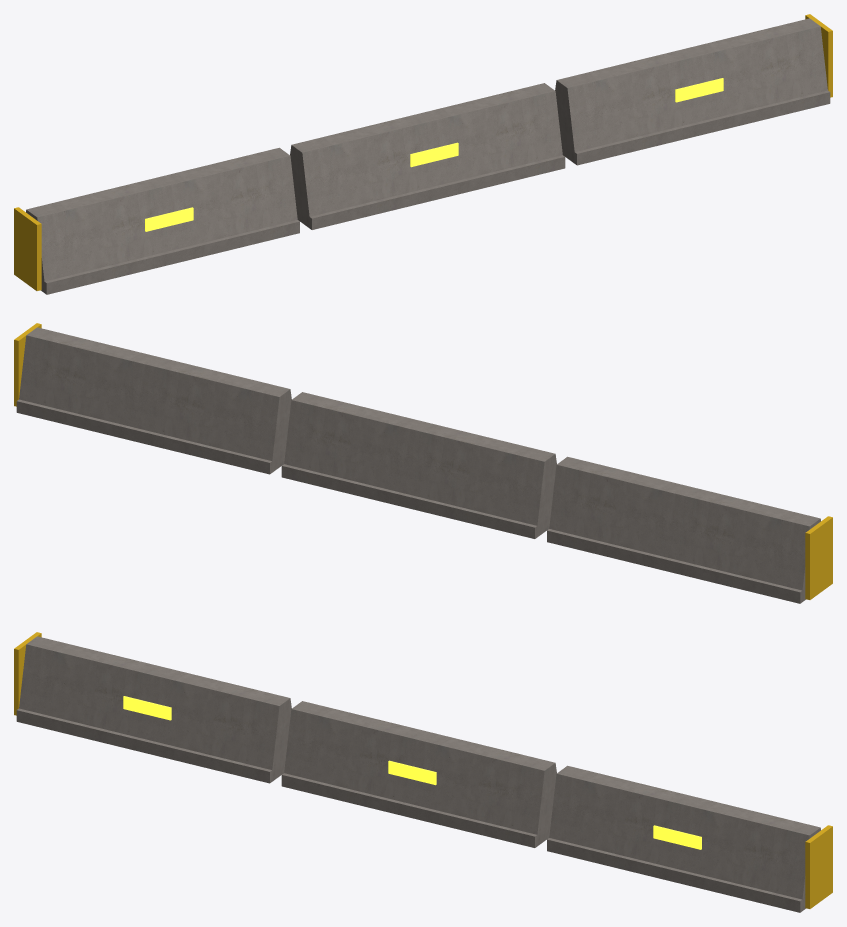
Rendered from OT_JerseyBarrier_10m.glb.
3 views of the same model, one above another, from view 1: azimuth 30°, elevation 25°; view 2: azimuth 150°, elevation 25°; view 3: azimuth 330°, elevation 25° (orthographic).
Visible parts, largest first — view 1: OT_JerseyBarrier_10m_Concrete, OT_JerseyBarrier_10m_Stripe__e8b81e, OT_JerseyBarrier_10m_Reflector__ffcc33; view 2: OT_JerseyBarrier_10m_Concrete, OT_JerseyBarrier_10m_Stripe__e8b81e; view 3: OT_JerseyBarrier_10m_Concrete, OT_JerseyBarrier_10m_Stripe__e8b81e, OT_JerseyBarrier_10m_Reflector__ffcc33.
Part boxes in pixels (bbox=[...]): OT_JerseyBarrier_10m_Concrete: bbox=[26, 18, 830, 294]; OT_JerseyBarrier_10m_Stripe__e8b81e: bbox=[14, 14, 832, 290]; OT_JerseyBarrier_10m_Reflector__ffcc33: bbox=[145, 78, 723, 231]; OT_JerseyBarrier_10m_Concrete: bbox=[16, 327, 820, 603]; OT_JerseyBarrier_10m_Stripe__e8b81e: bbox=[14, 323, 832, 599]; OT_JerseyBarrier_10m_Concrete: bbox=[16, 636, 820, 912]; OT_JerseyBarrier_10m_Stripe__e8b81e: bbox=[14, 632, 832, 908]; OT_JerseyBarrier_10m_Reflector__ffcc33: bbox=[123, 696, 701, 849].
Size of the model in its own units: 10.06 by 0.85 by 0.66.
3 materials, 1 textured.
